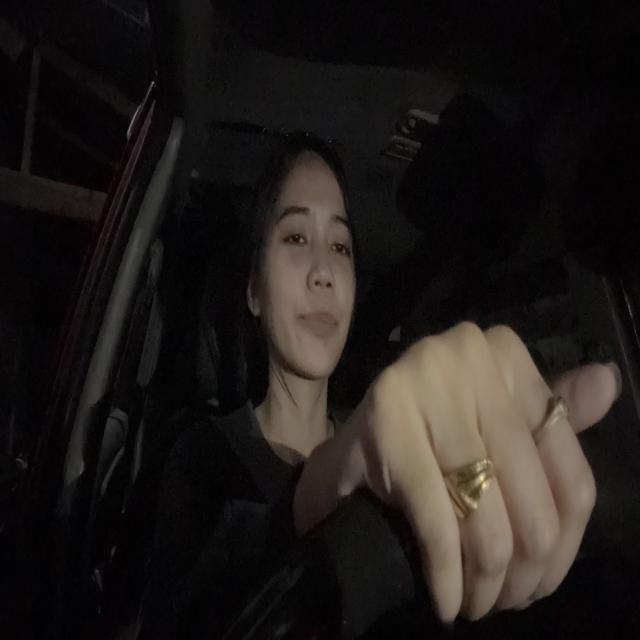open: (272, 202, 310, 257), (326, 208, 352, 265)
